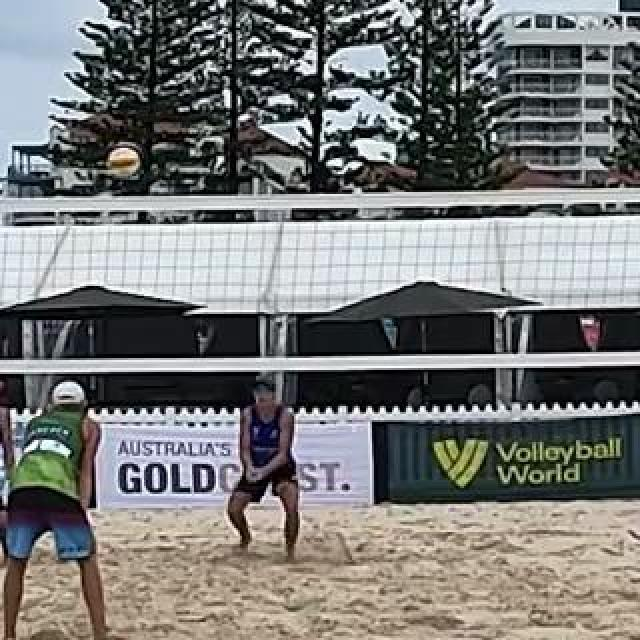volleyball: (108, 144, 142, 176)
